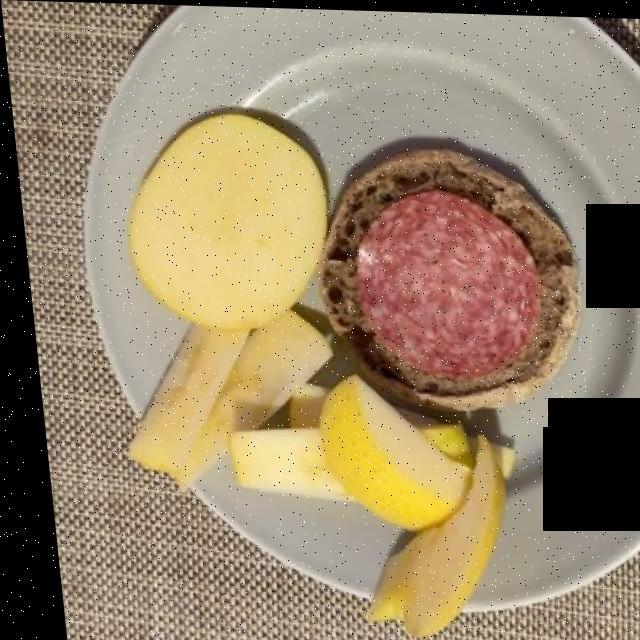apple: (124, 66, 500, 628)
bread: (325, 150, 576, 413)
salami: (354, 203, 533, 393)
